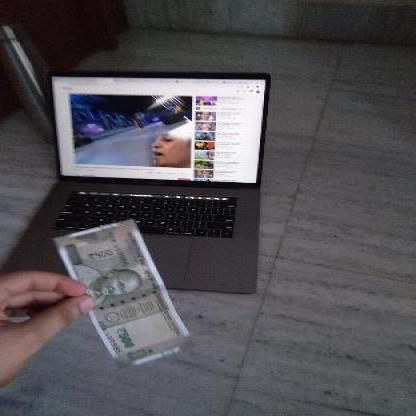New500Front: (51, 219, 191, 362)
